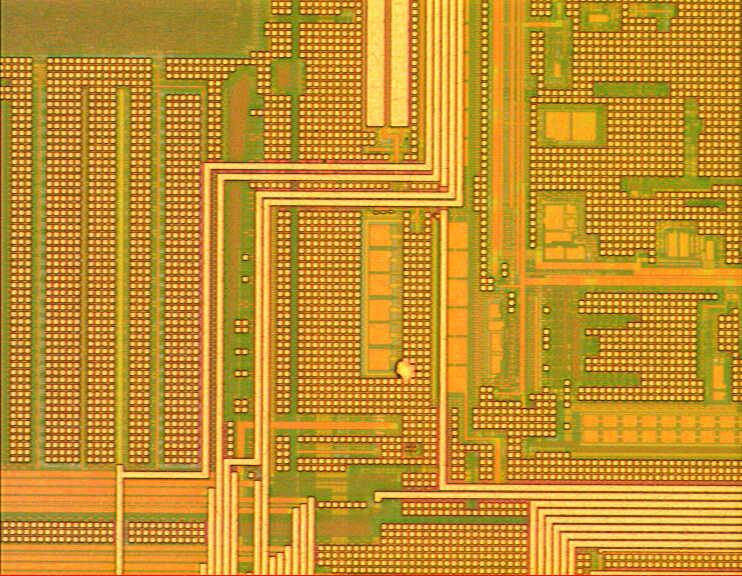BLOCK ETCH: (393, 355, 418, 388)
